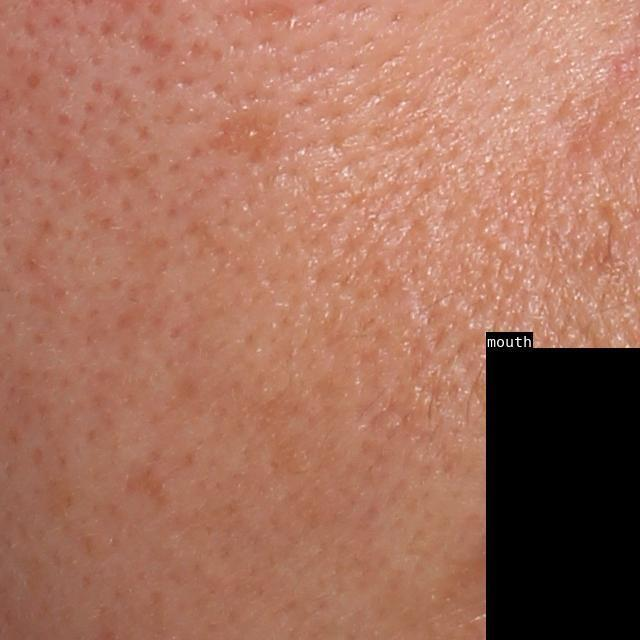atrophic_scar: (204, 114, 289, 172), (121, 456, 175, 511), (133, 16, 178, 63)
